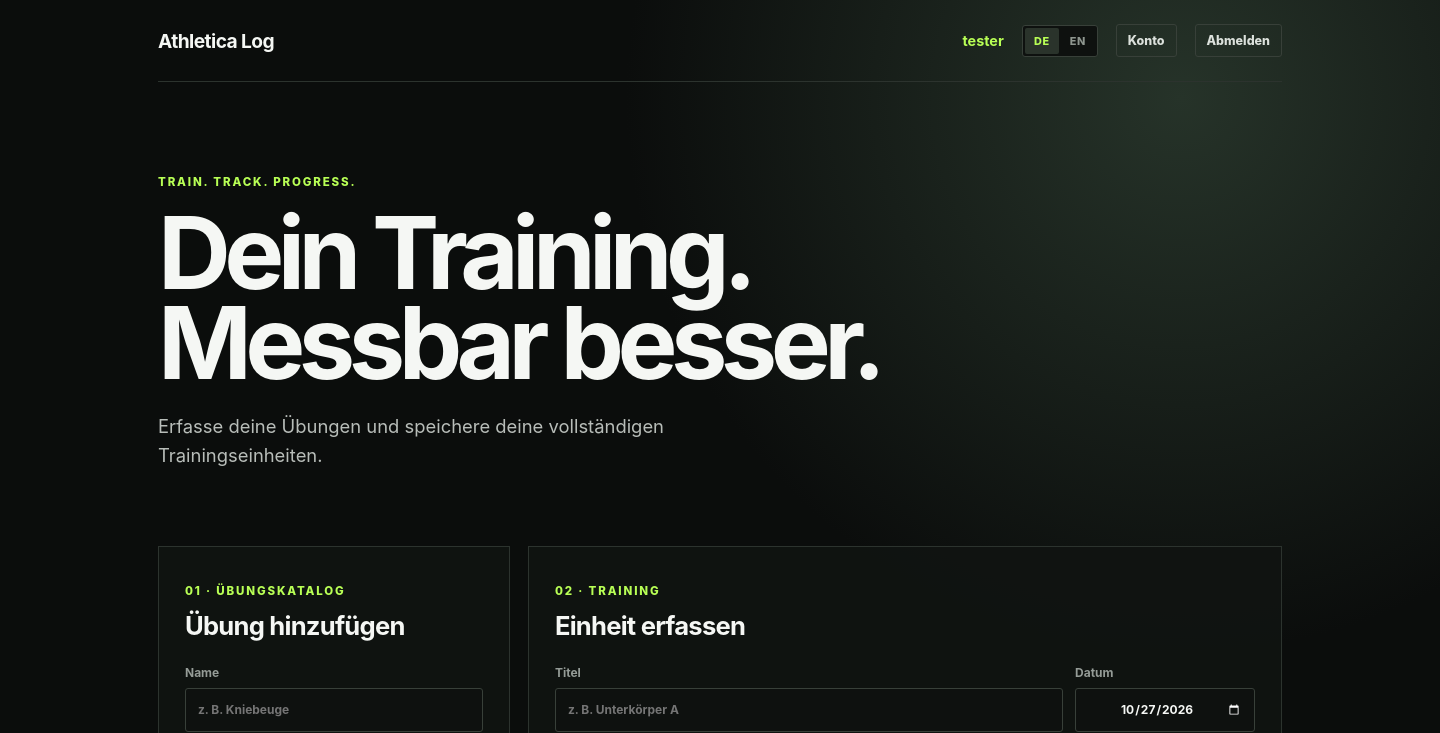
Scenario: Home › changes the password and returns to login
The width and height of the screenshot is (1440, 733).
Click the button "Konto".
click(1146, 40)  # box x1=1116 y1=24 x2=1176 y2=57
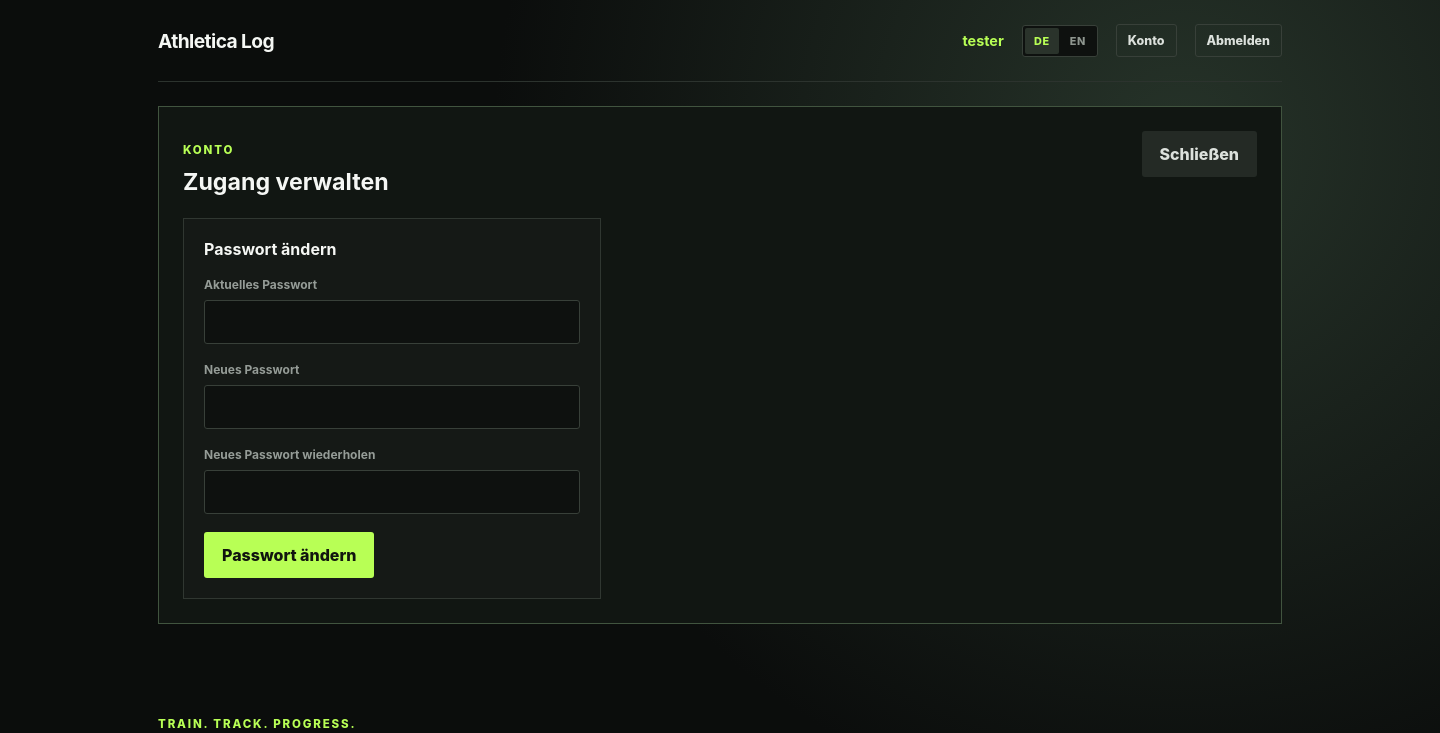
Type "old-password-123" into the password field labelled "Aktuelles Passwort".
click(392, 322); type("old-password-123")  # box x1=204 y1=300 x2=580 y2=344
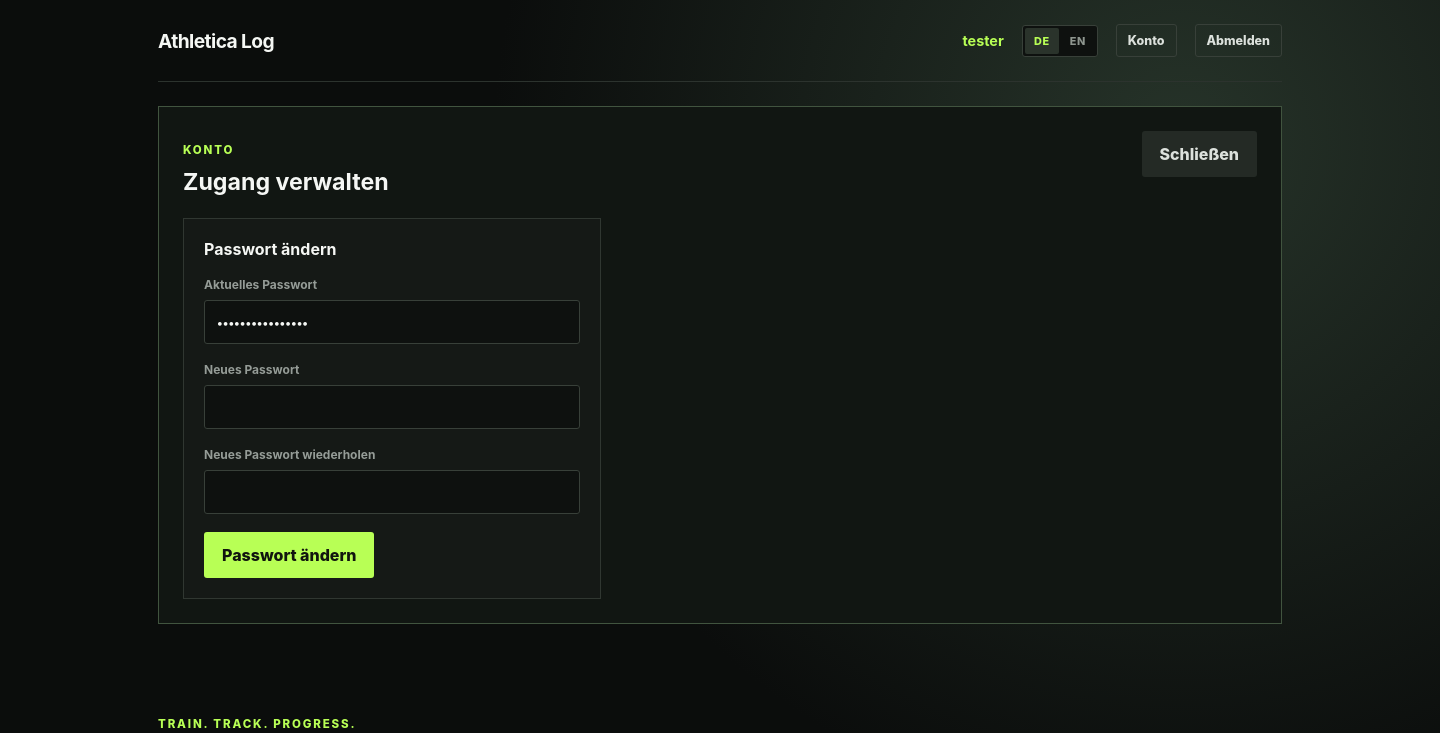
Type "new-password-456" into the password field labelled "Neues Passwort".
click(392, 407); type("new-password-456")  # box x1=204 y1=385 x2=580 y2=429
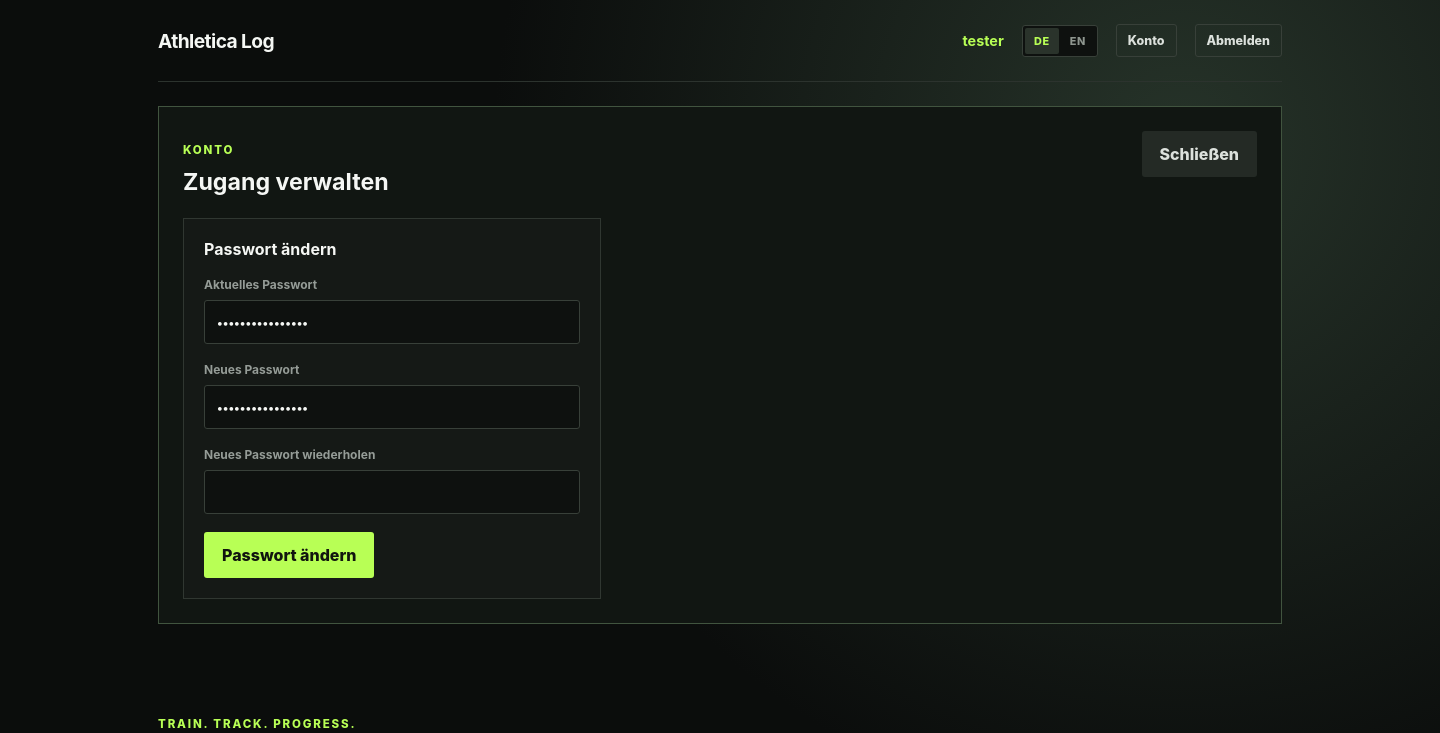
Type "new-password-456" into the password field labelled "Neues Passwort wiederholen".
click(392, 492); type("new-password-456")  # box x1=204 y1=470 x2=580 y2=514
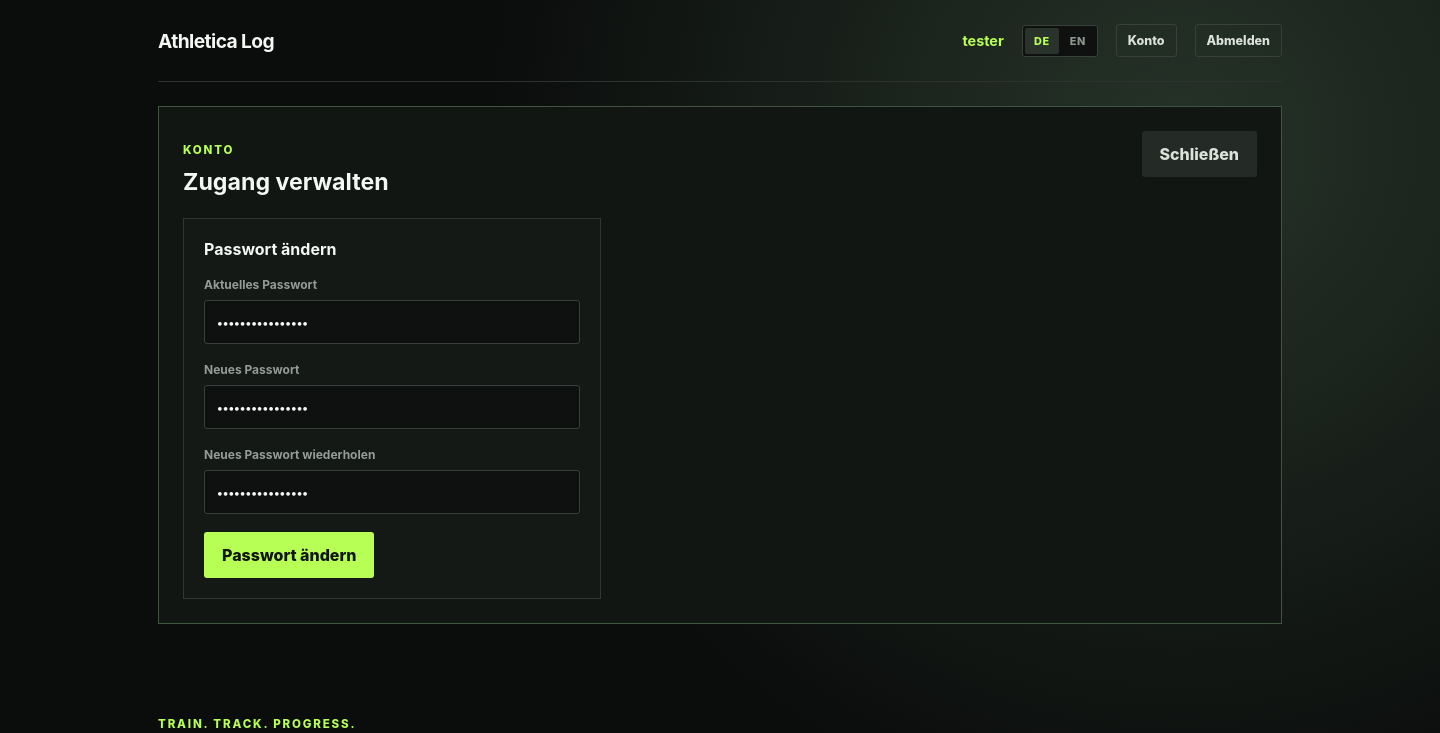
Click the button "Passwort ändern".
click(289, 555)  # box x1=204 y1=532 x2=374 y2=578
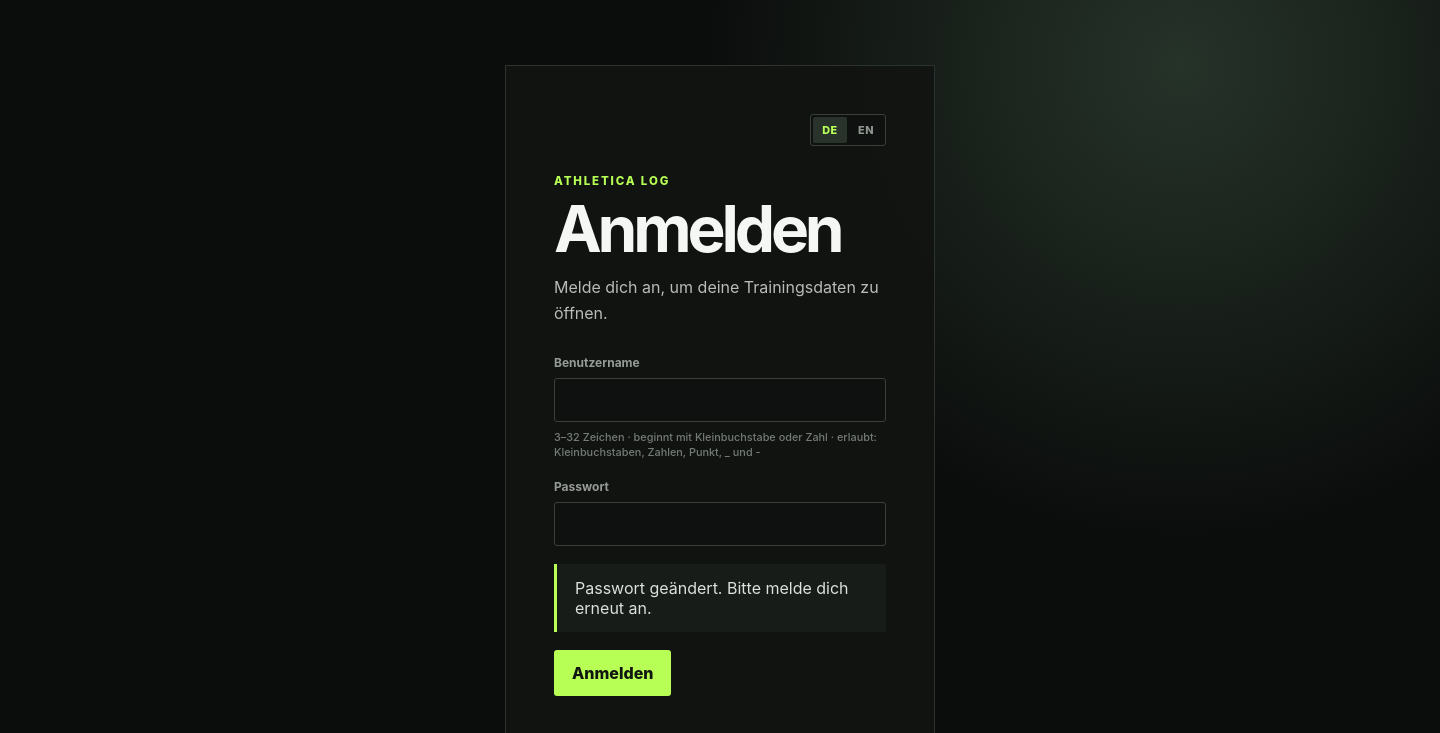
Expected: the heading "Anmelden" is shown, x1=554 y1=200 x2=886 y2=257
Expected: the message reads "Passwort geändert. Bitte melde dich erneut an.", x1=575 y1=578 x2=849 y2=618
